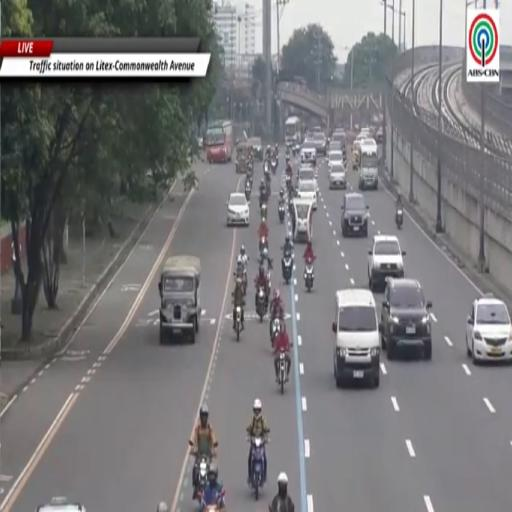bus: (206, 121, 235, 163), (285, 117, 302, 145)
car: (333, 288, 380, 387), (381, 278, 431, 360), (466, 294, 511, 363), (368, 235, 405, 290), (341, 192, 369, 237), (227, 192, 249, 226), (36, 498, 85, 511), (297, 180, 317, 210), (329, 163, 346, 188), (300, 141, 316, 166), (298, 168, 317, 188), (249, 137, 263, 161), (298, 163, 317, 180), (328, 150, 343, 171), (313, 133, 327, 155), (329, 140, 343, 151), (375, 127, 383, 144)
jeepney: (159, 255, 201, 344), (292, 198, 313, 243), (236, 141, 252, 173), (352, 140, 360, 170)
motorcycle: (250, 438, 267, 500), (194, 455, 210, 499), (198, 490, 225, 511), (256, 287, 266, 323), (282, 251, 293, 283), (278, 351, 286, 394), (304, 262, 314, 292), (234, 306, 242, 341), (271, 317, 280, 347), (259, 189, 268, 207), (260, 203, 268, 222), (278, 202, 285, 223), (396, 208, 403, 229), (265, 173, 271, 197), (259, 237, 267, 254), (288, 194, 294, 216), (245, 182, 251, 201), (246, 172, 253, 188), (271, 158, 278, 174), (285, 174, 291, 191), (264, 159, 269, 174), (294, 142, 300, 154), (292, 147, 296, 156)
